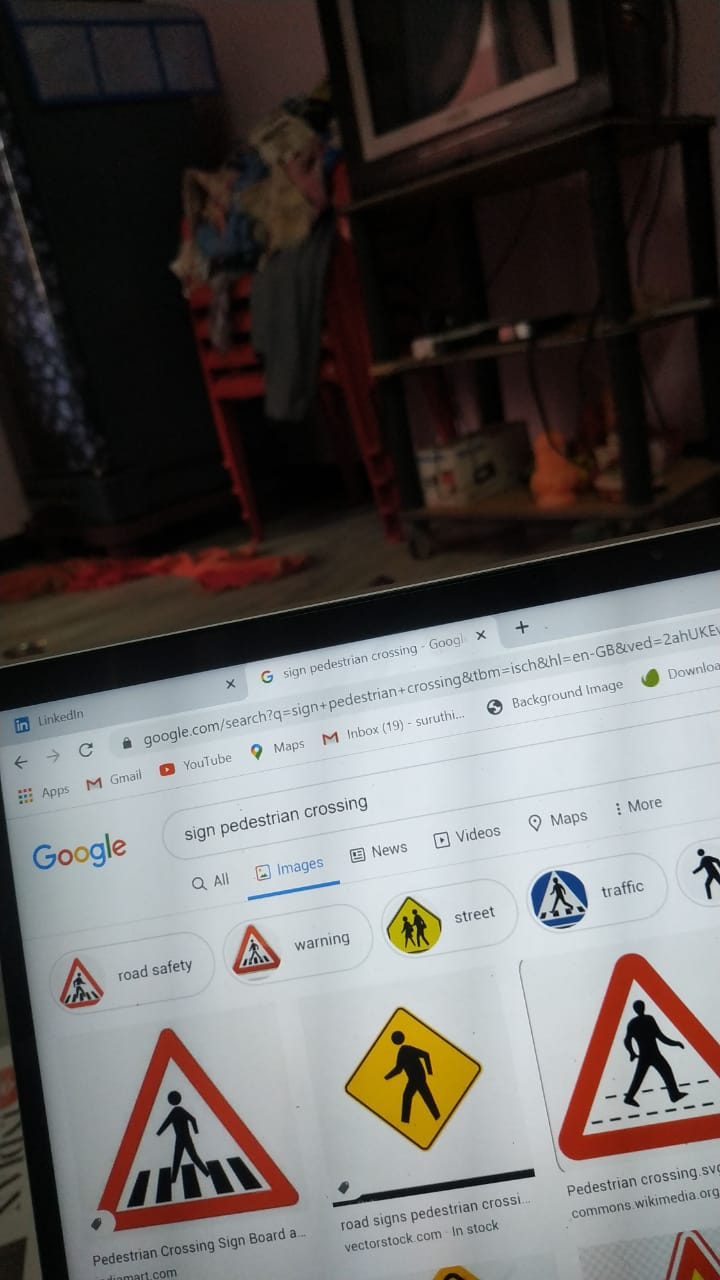PEDESTRIAN CROSSING: (66, 1026, 327, 1221), (555, 945, 720, 1145), (50, 954, 129, 1033), (225, 913, 293, 1000), (525, 867, 597, 938)
